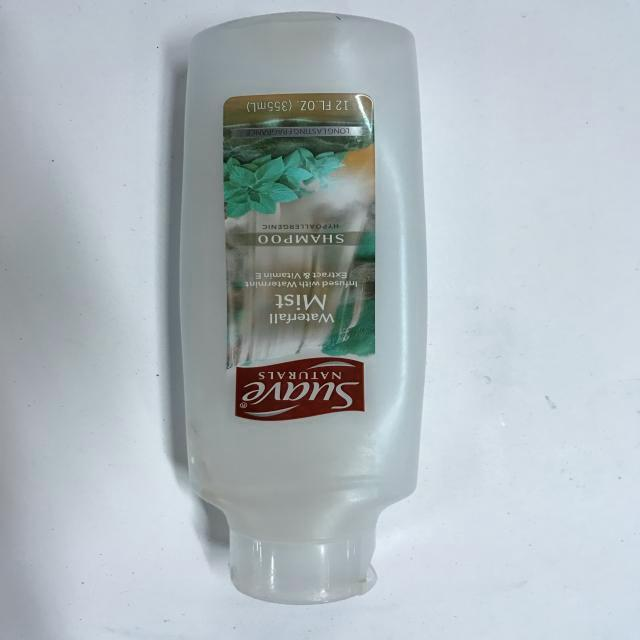plastic: (144, 2, 444, 624)
